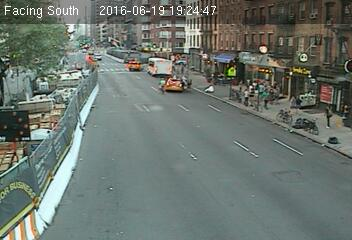neg: (62, 109, 91, 147), (72, 34, 92, 61), (3, 63, 22, 89), (154, 75, 173, 100)
pos: (319, 100, 342, 132)
